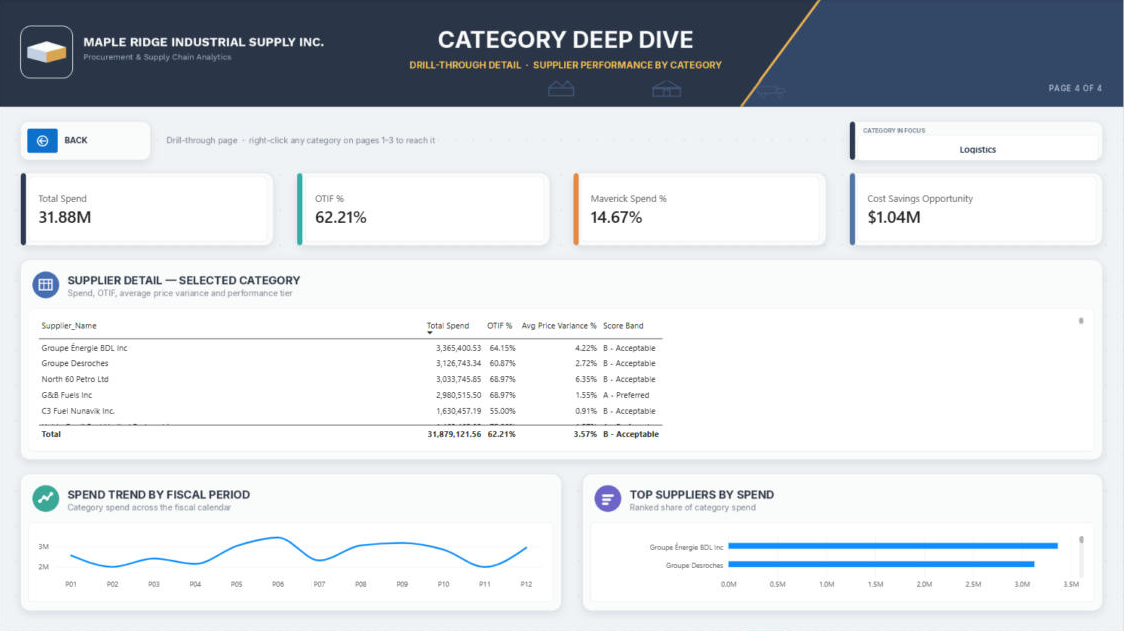

This screenshot's page, from the dashboard's own definition file:
{"tool":"powerbi","page":{"name":"Category Deep Dive","canvas":[1920,1080],"ordinal":3},"visuals":[{"type":"actionButton","box":[48,220,52,42],"z":0},{"type":"card","fields":{"Values":["Dim_Category.Category"]},"box":[1466,232,412,44],"z":500},{"type":"cardVisual","fields":{"Data":["Measure_Table.Total Spend"]},"box":[50,302,408,112],"z":1000},{"type":"cardVisual","fields":{"Data":["Measure_Table.OTIF %"]},"box":[522,302,408,112],"z":2000},{"type":"cardVisual","fields":{"Data":["Measure_Table.Maverick Spend %"]},"box":[994,302,408,112],"z":3000},{"type":"cardVisual","fields":{"Data":["Measure_Table.Cost Savings Opportunity"]},"box":[1466,302,408,112],"z":4000},{"type":"tableEx","fields":{"Values":["Dim_Supplier.Supplier_Name","Measure_Table.Total Spend","Measure_Table.OTIF %","Measure_Table.Avg Price Variance %","Measure_Table.Performance Tier"]},"box":[50,528,1820,244],"z":5000},{"type":"lineChart","fields":{"Category":["Dim_Date.Fiscal_Period"],"Y":["Measure_Table.Total Spend"]},"box":[50,894,896,136],"z":6000},{"type":"clusteredBarChart","fields":{"Category":["Dim_Supplier.Supplier_Name"],"Y":["Measure_Table.Total Spend"]},"box":[1010,894,860,136],"z":7000}]}

Visuals, with their boxes in screenshot pixels (x1, y1, x2, y2), scaled from the page's 1920x1080 canvas onto the 1124x631 screenshot:
actionButton: 28/129/59/153
card - Dim_Category.Category: 858/136/1099/161
cardVisual - Measure_Table.Total Spend: 29/176/268/242
cardVisual - Measure_Table.OTIF %: 306/176/544/242
cardVisual - Measure_Table.Maverick Spend %: 582/176/821/242
cardVisual - Measure_Table.Cost Savings Opportunity: 858/176/1097/242
tableEx - Dim_Supplier.Supplier_Name x Measure_Table.Total Spend: 29/308/1095/451
lineChart - Dim_Date.Fiscal_Period x Measure_Table.Total Spend: 29/522/554/602
clusteredBarChart - Dim_Supplier.Supplier_Name x Measure_Table.Total Spend: 591/522/1095/602
